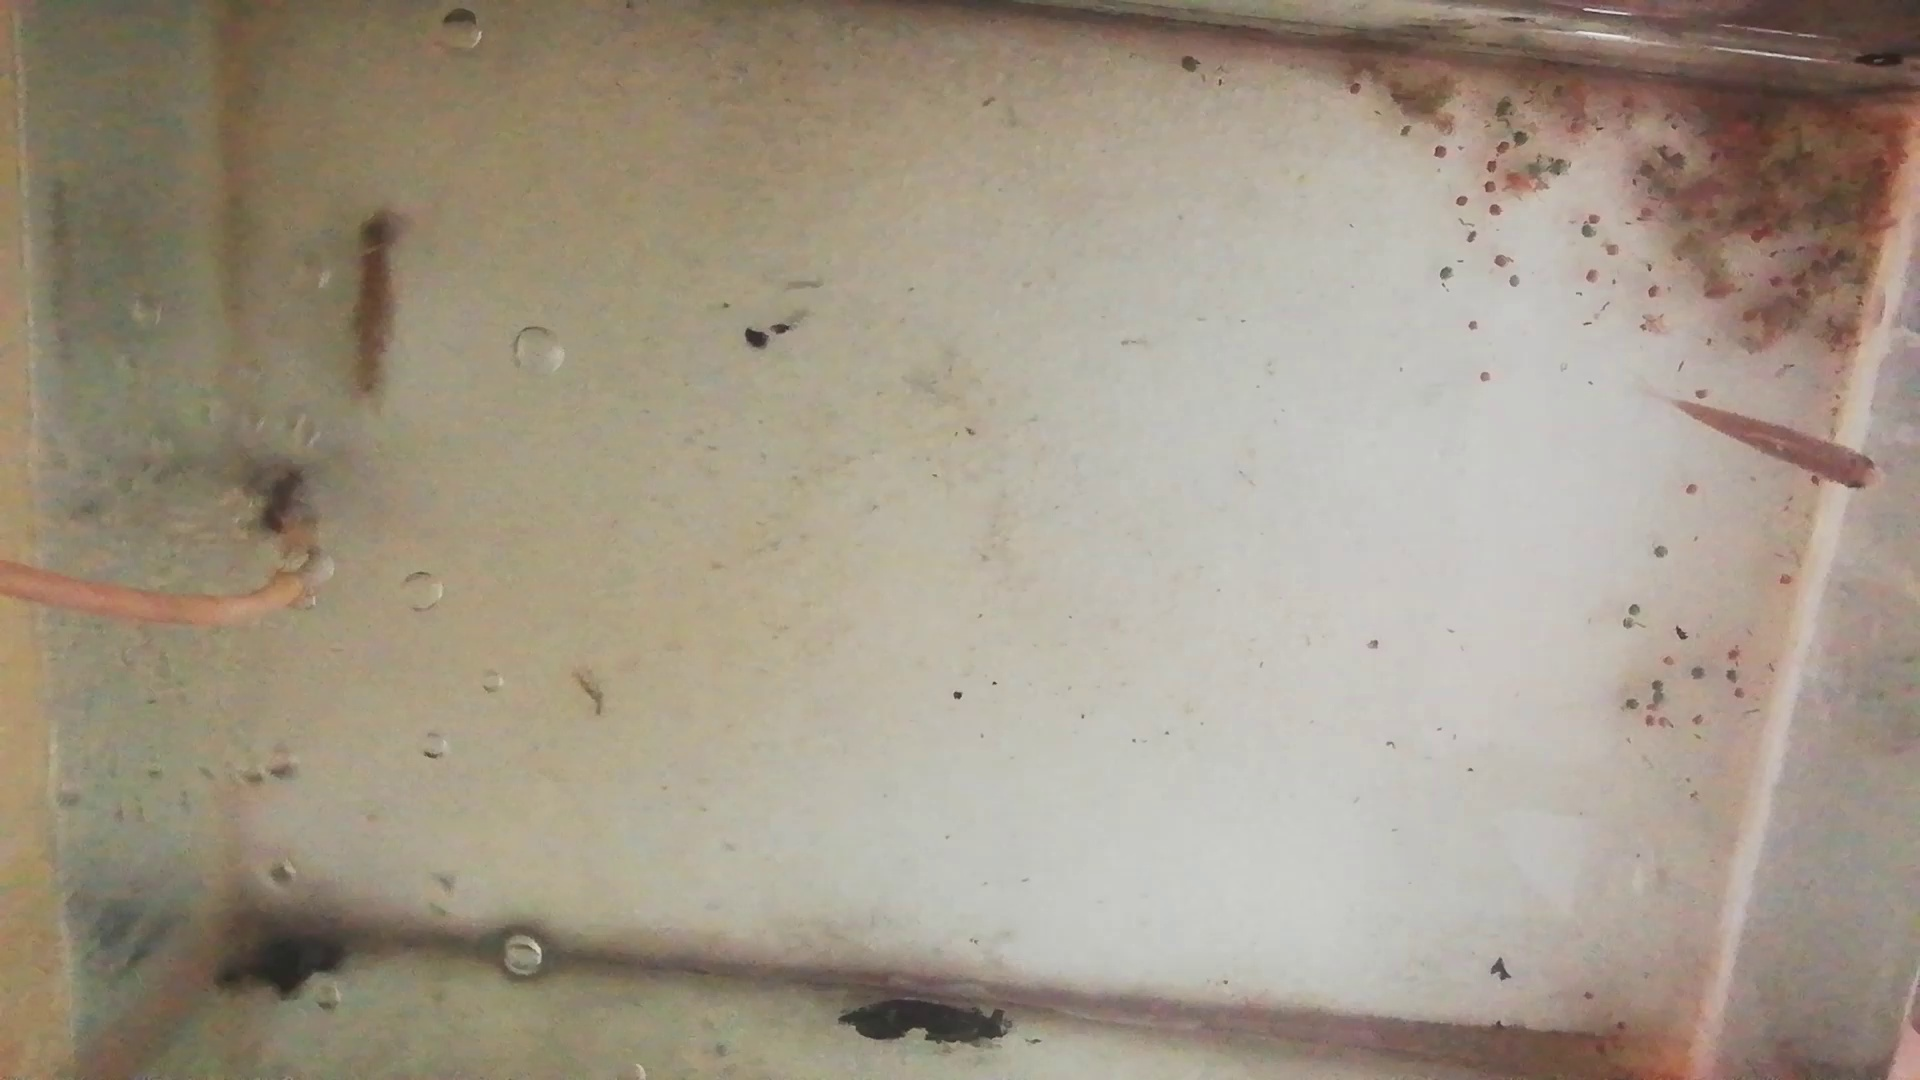fish: (1672, 400, 1886, 497), (351, 210, 404, 419)
